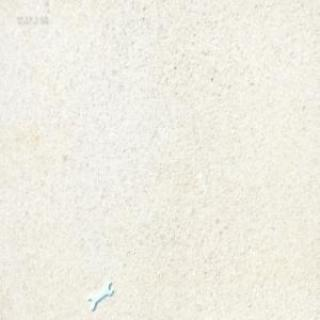Wrenchtrack_idkeyframe: (90, 280, 116, 310)
